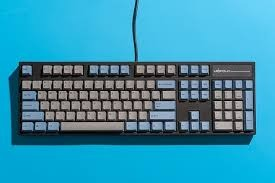keyboard: (20, 61, 256, 136)
